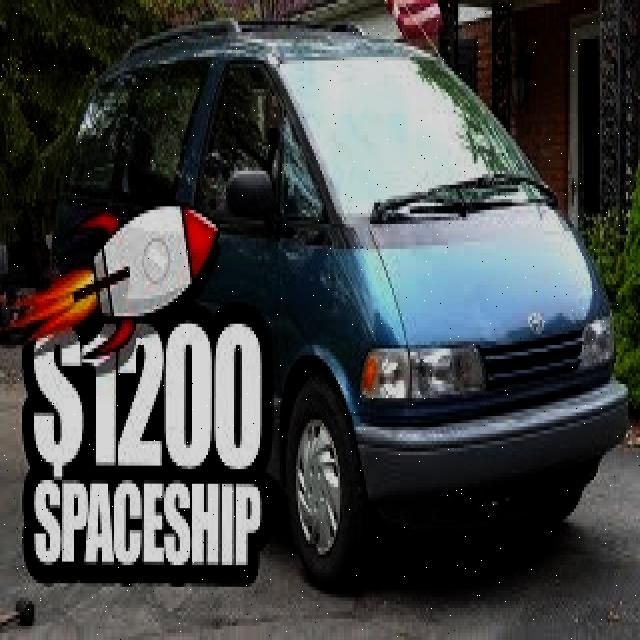Van: (18, 18, 616, 594)
